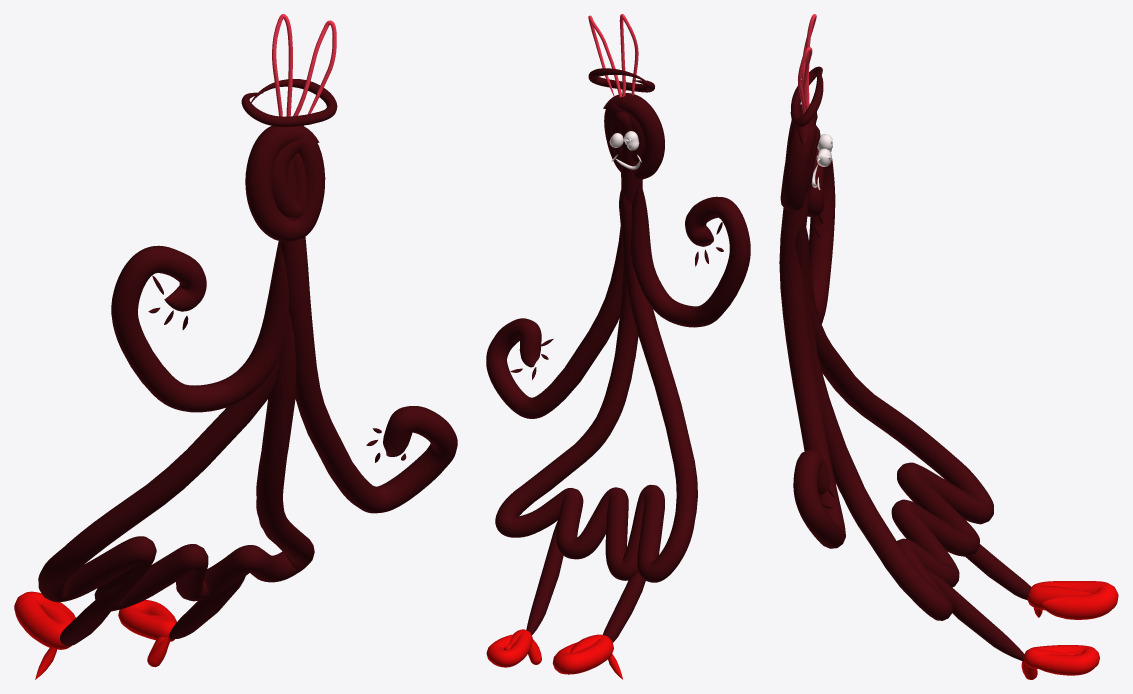
File: ladydemon.glb
3 views of the same model, side by side, from view 1: azimuth 30°, elevation 25°; view 2: azimuth 150°, elevation 25°; view 3: azimuth 270°, elevation 25° (orthographic). The views are drawn at different scales.
Parts seen in each view (by area): view 1: ladydemon; view 2: ladydemon; view 3: ladydemon.
Boxes of the visible parts, left/top/right/bottom form: ladydemon: left=14, top=14, right=457, bottom=679; ladydemon: left=486, top=14, right=750, bottom=679; ladydemon: left=779, top=14, right=1118, bottom=679.
Bounding box in the file's own units: 0.714 × 1.49 × 0.6852.
Materials: 1 (1 with a texture image).
